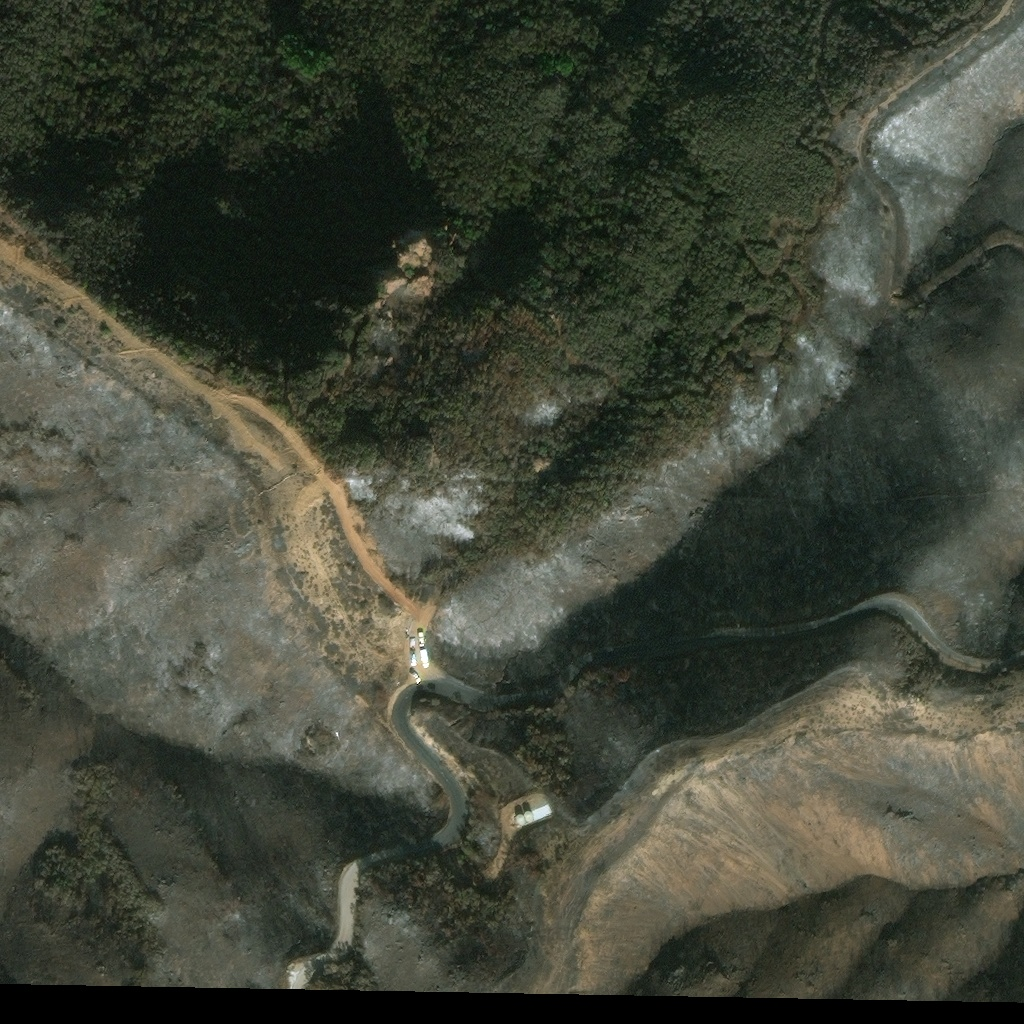0 no-damage: (515, 801, 552, 827)
